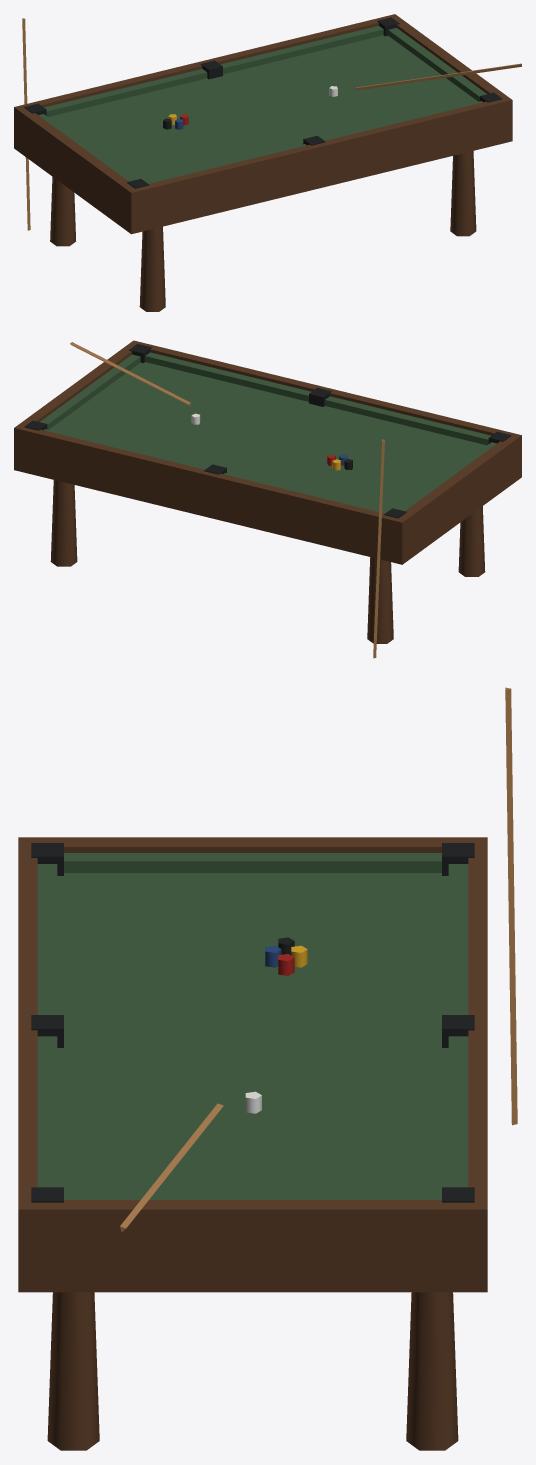
File: billiard_table.glb
3 renders of one model, top to bottom at view 1: azimuth 30°, elevation 25°; view 2: azimuth 150°, elevation 25°; view 3: azimuth 270°, elevation 25°, orthographic. The views are drawn at different scales.
Parts seen in each view (by area): view 1: billiard_table; view 2: billiard_table; view 3: billiard_table.
Part boxes in pixels (x1,y1,x2,y2): billiard_table: [14, 14, 521, 311]; billiard_table: [14, 340, 521, 658]; billiard_table: [18, 687, 517, 1450].
Bounding box in the file's own units: 2.95 × 1.45 × 1.53.
Materials: 1 (1 with a texture image).
